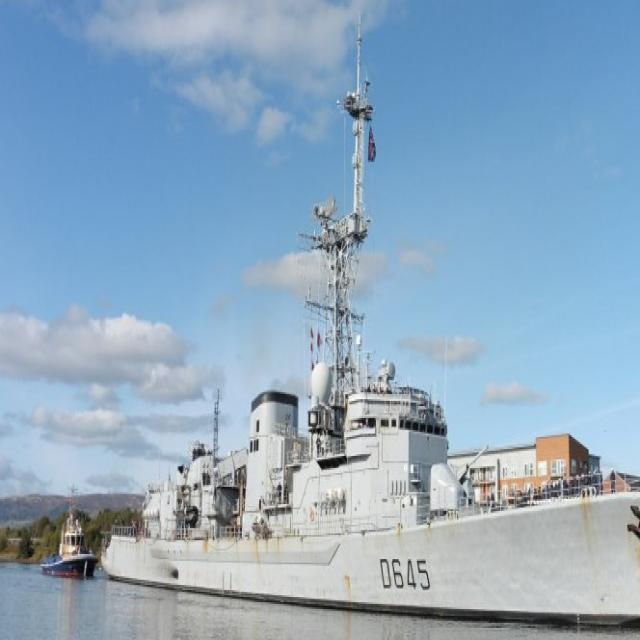Fragata: (92, 4, 640, 639)
